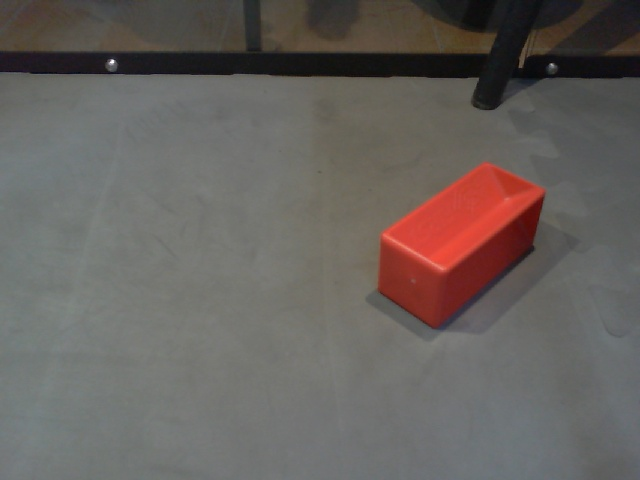RedSample: (375, 160, 549, 328)
